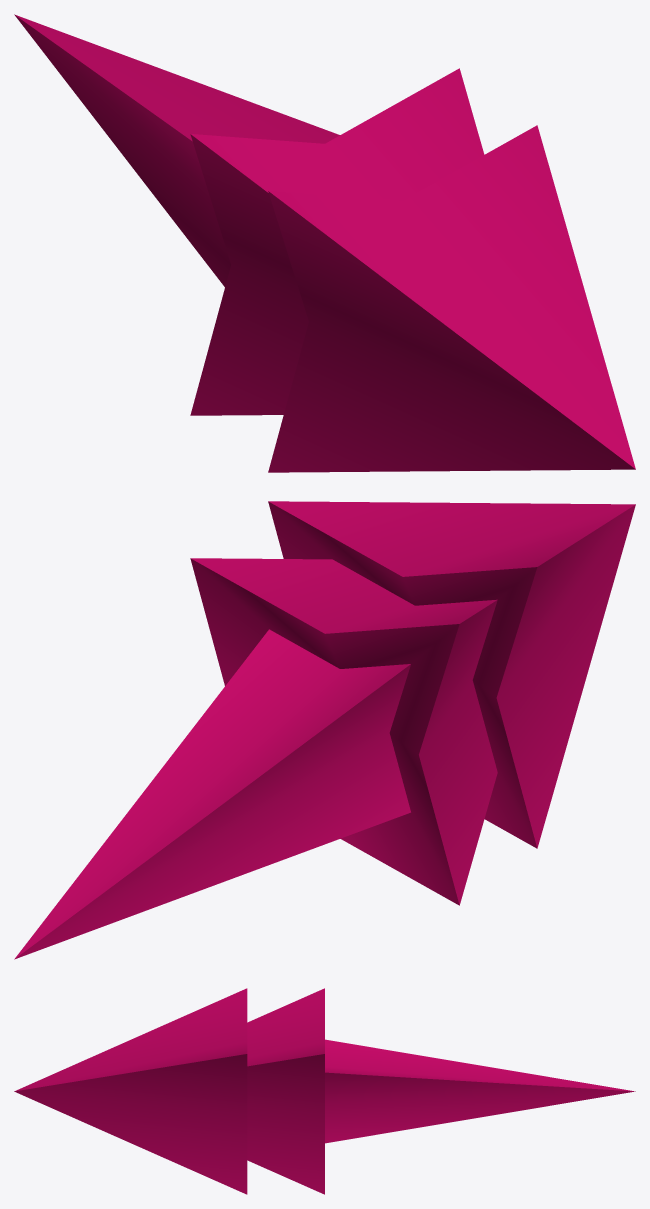
Rendered from Tempest_Bullet.FBX.
3 renders of one model, top to bottom at view 1: azimuth 30°, elevation 25°; view 2: azimuth 150°, elevation 25°; view 3: azimuth 270°, elevation 25°, orthographic. The views are drawn at different scales.
Visible parts, largest first — view 1: Box002; view 2: Box002; view 3: Box002.
Part boxes in pixels (left/top/right/bottom): Box002: left=14, top=14, right=635, bottom=472; Box002: left=14, top=501, right=635, bottom=959; Box002: left=14, top=988, right=635, bottom=1194.
Bounding box in the file's own units: 10 × 10 × 40.
